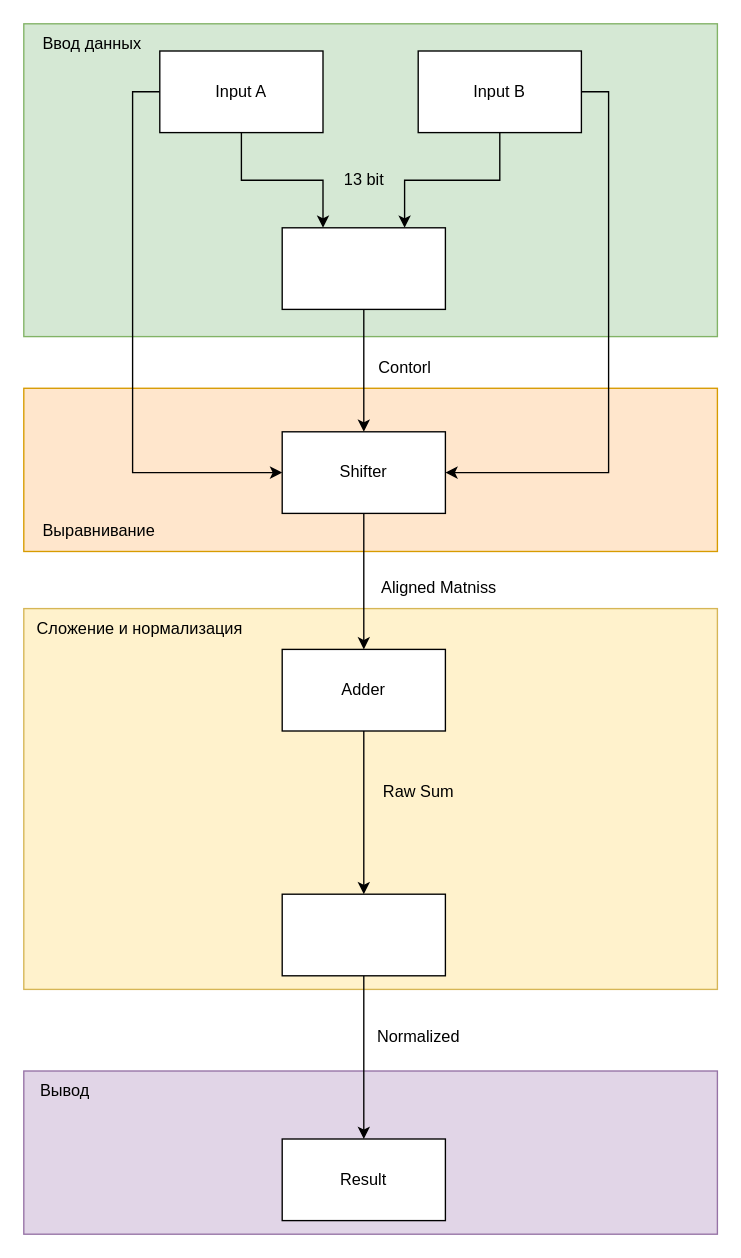
The diagram is 741 pixels wide and 1258 high, and some of its shapes have lost their labels. The shapes that lost their labels are listed below. From the top down, each one's box as (x1, y1, x2, y2) in pixels, then its label:
(281, 226, 445, 309): Comparator
(281, 893, 445, 976): Normalization
